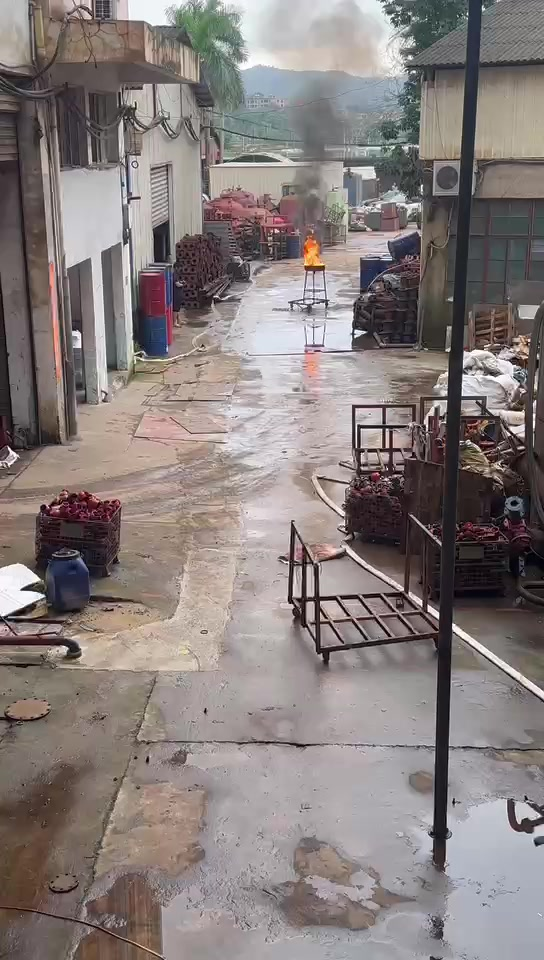fire: (302, 234, 325, 265)
